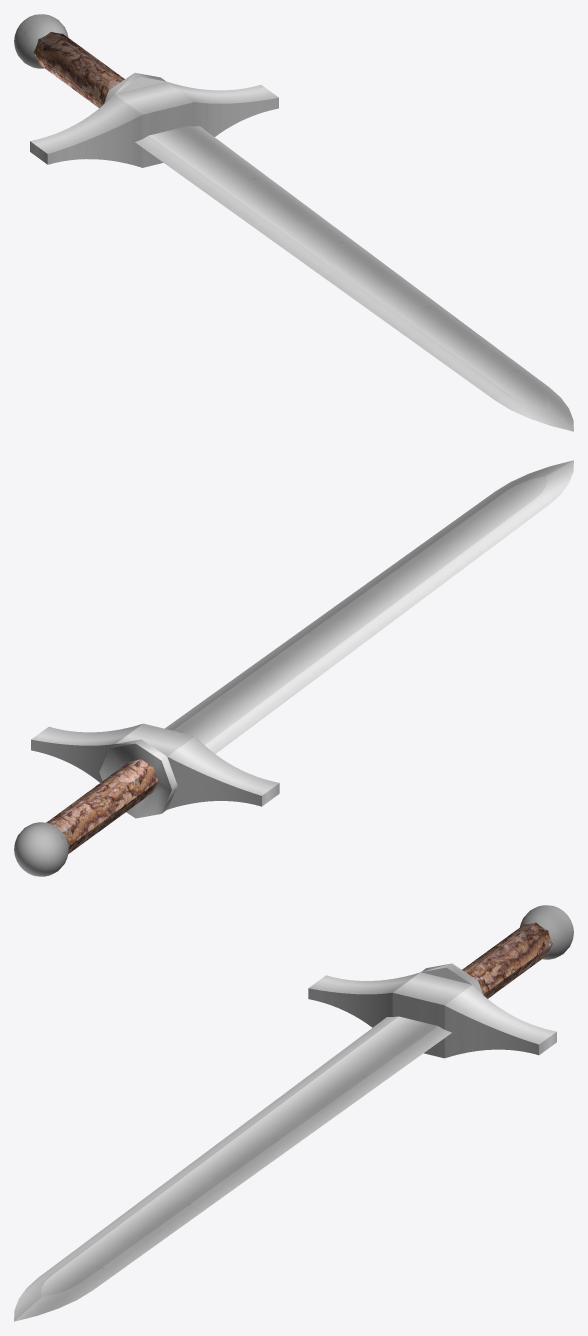
File: Sword2.dae
3 renders of one model, top to bottom at view 1: azimuth 30°, elevation 25°; view 2: azimuth 150°, elevation 25°; view 3: azimuth 330°, elevation 25°, orthographic.
Visible parts, largest first — view 1: mesh0%root%0%, mesh0%root%2%; view 2: mesh0%root%0%, mesh0%root%2%; view 3: mesh0%root%0%, mesh0%root%2%.
Boxes of the visible parts, left/top/right/bottom form: mesh0%root%0%: left=14, top=14, right=573, bottom=431; mesh0%root%2%: left=33, top=32, right=124, bottom=108; mesh0%root%0%: left=14, top=460, right=573, bottom=876; mesh0%root%2%: left=46, top=759, right=157, bottom=853; mesh0%root%0%: left=14, top=905, right=573, bottom=1321; mesh0%root%2%: left=462, top=922, right=552, bottom=998.
Size of the model in its own units: 0.8995 by 0.2795 by 3.68.
